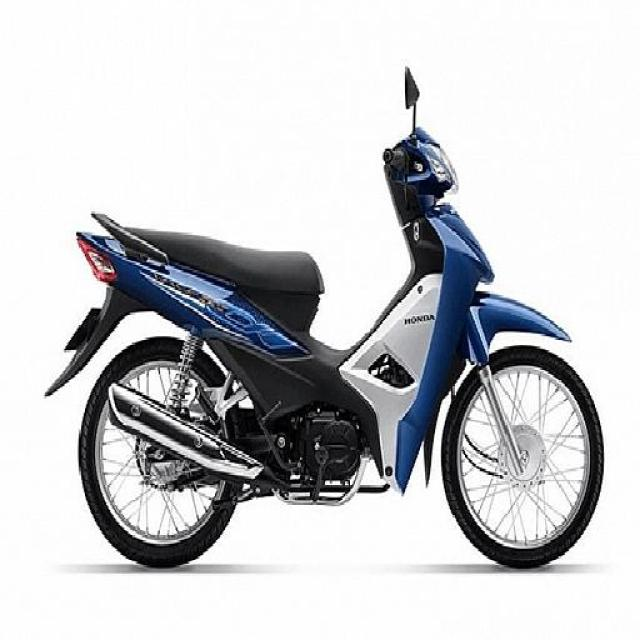All: (42, 123, 609, 574)
Head: (380, 125, 466, 202)
Tail: (68, 203, 146, 286)
